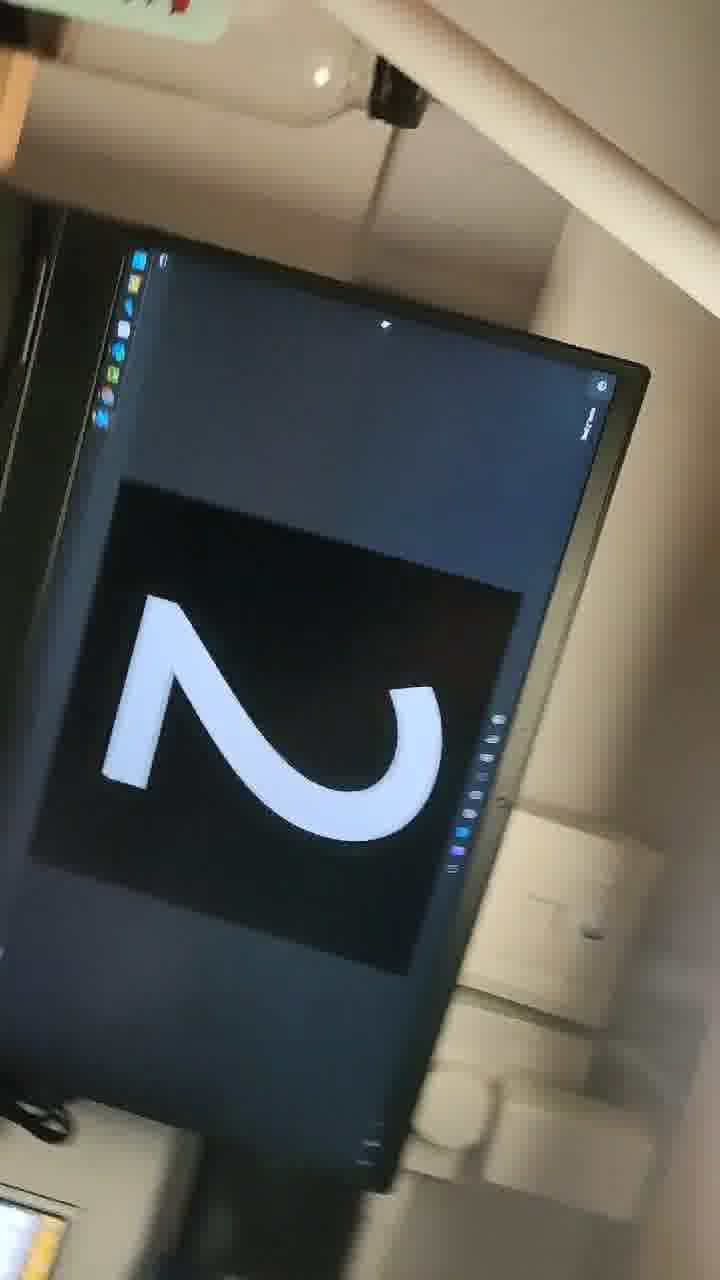two: (79, 536, 499, 925)
